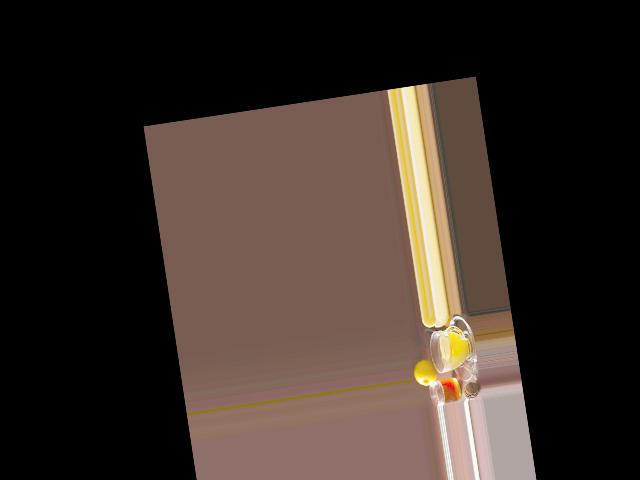lemon: (411, 354, 440, 389)
